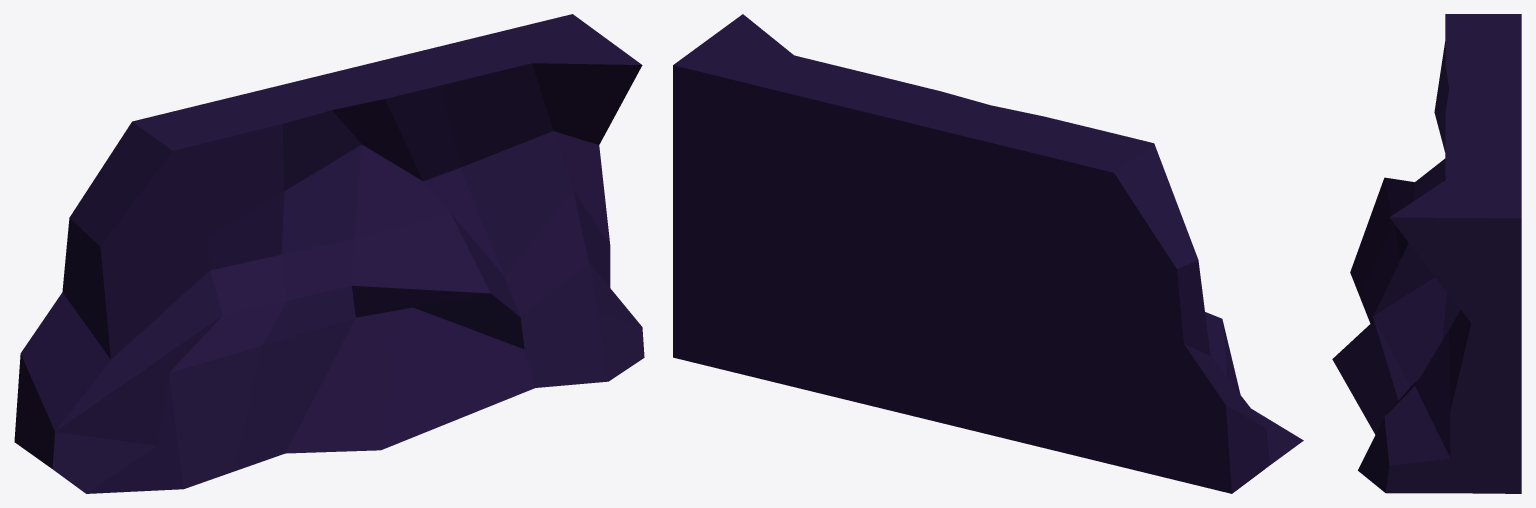
File: cave_cliff_bottom_001_msh.fbx
3 renders of one model, left to right at view 1: azimuth 30°, elevation 25°; view 2: azimuth 150°, elevation 25°; view 3: azimuth 270°, elevation 25°, orthographic. The views are drawn at different scales.
Parts seen in each view (by area): view 1: cave_cliff_bottom_001_msh; view 2: cave_cliff_bottom_001_msh; view 3: cave_cliff_bottom_001_msh.
Boxes of the visible parts, box(x1,y1,x2,y2) form: cave_cliff_bottom_001_msh: box(14, 14, 644, 493); cave_cliff_bottom_001_msh: box(673, 14, 1303, 493); cave_cliff_bottom_001_msh: box(1332, 14, 1521, 493).
Bounding box in the file's own units: 800 × 400 × 248.
